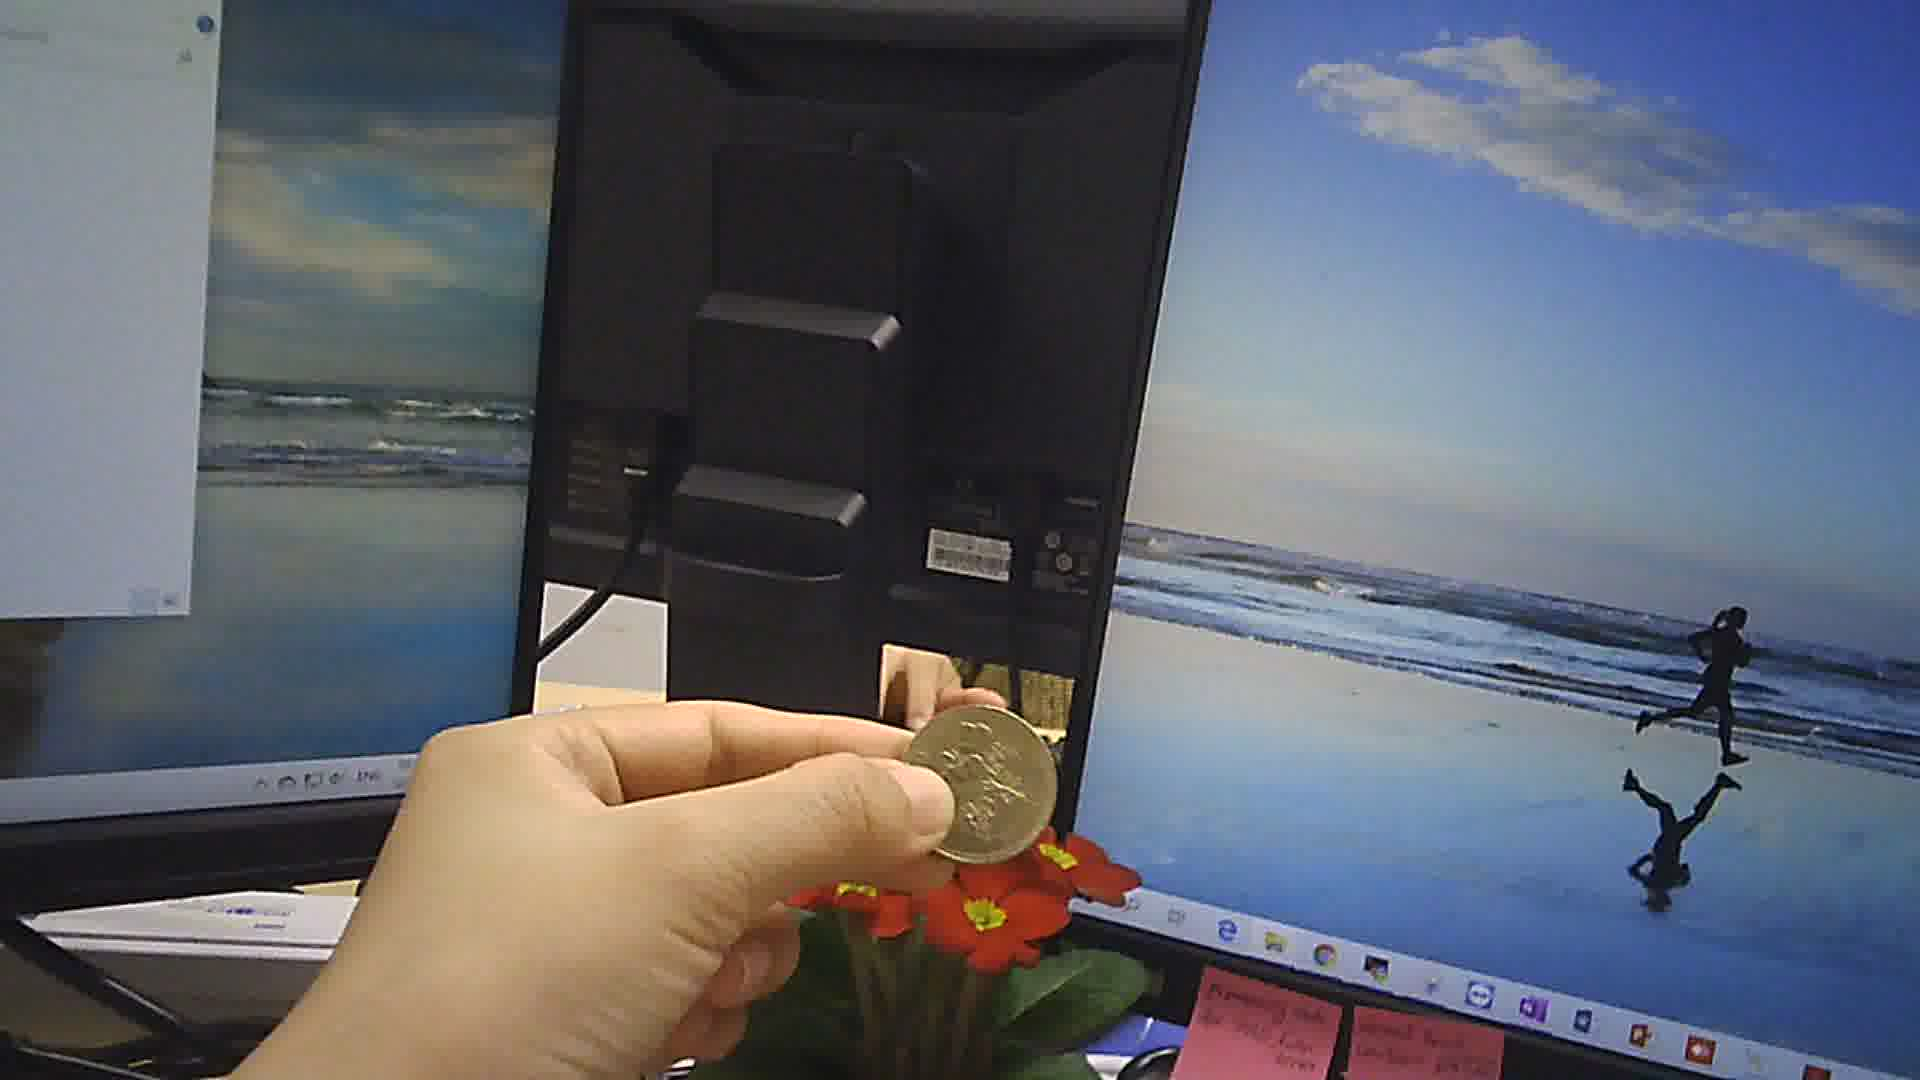500 Yen: (894, 699, 1062, 865)
